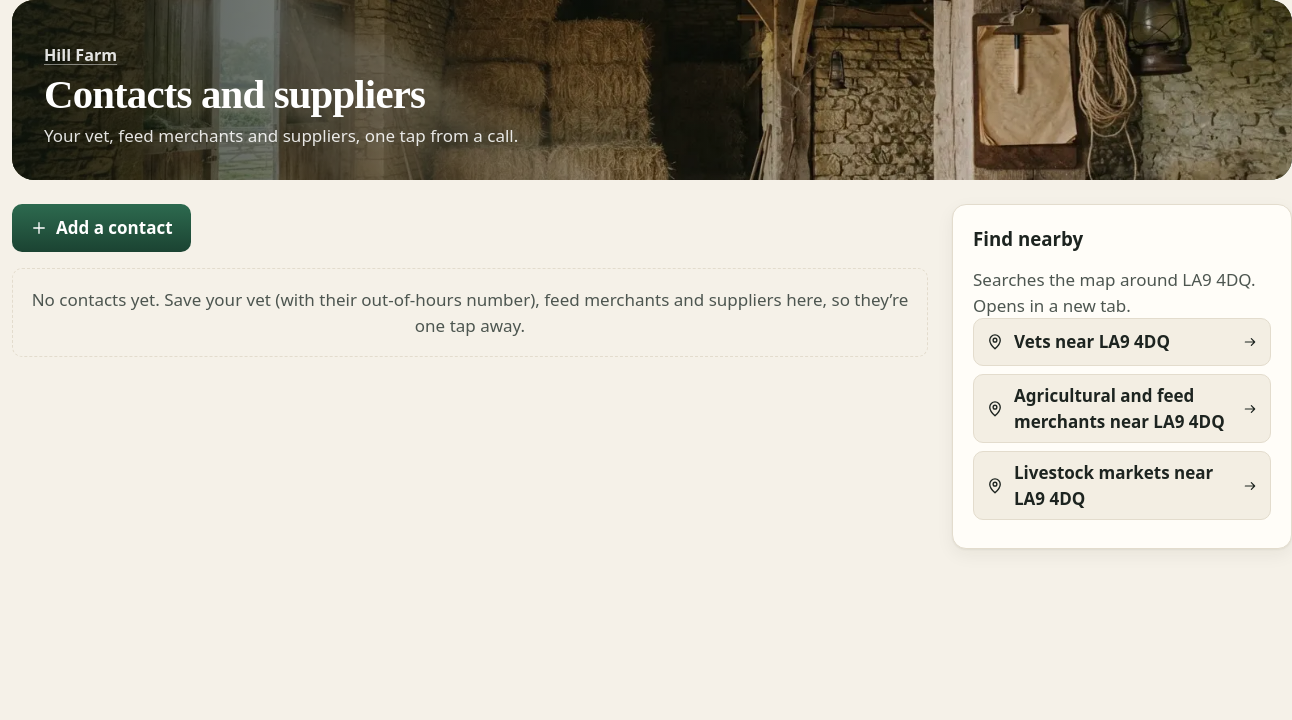
ContactsPage (v4) › adds a supplier with their website
The width and height of the screenshot is (1292, 720).
Click the button "Add a contact".
click(101, 228)  # box [12,204,191,252]
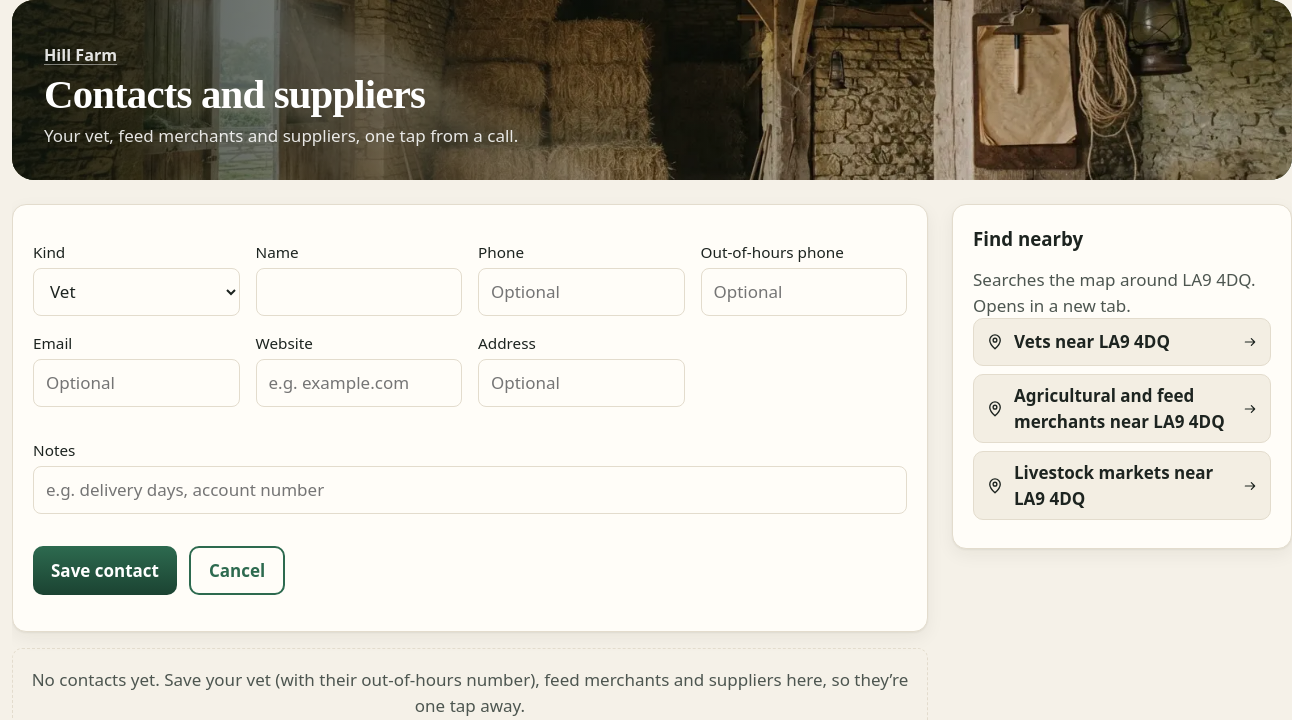
Select "Feed merchant" in the dropdown labelled "Kind" at (136, 292), box [33,268,240,316]
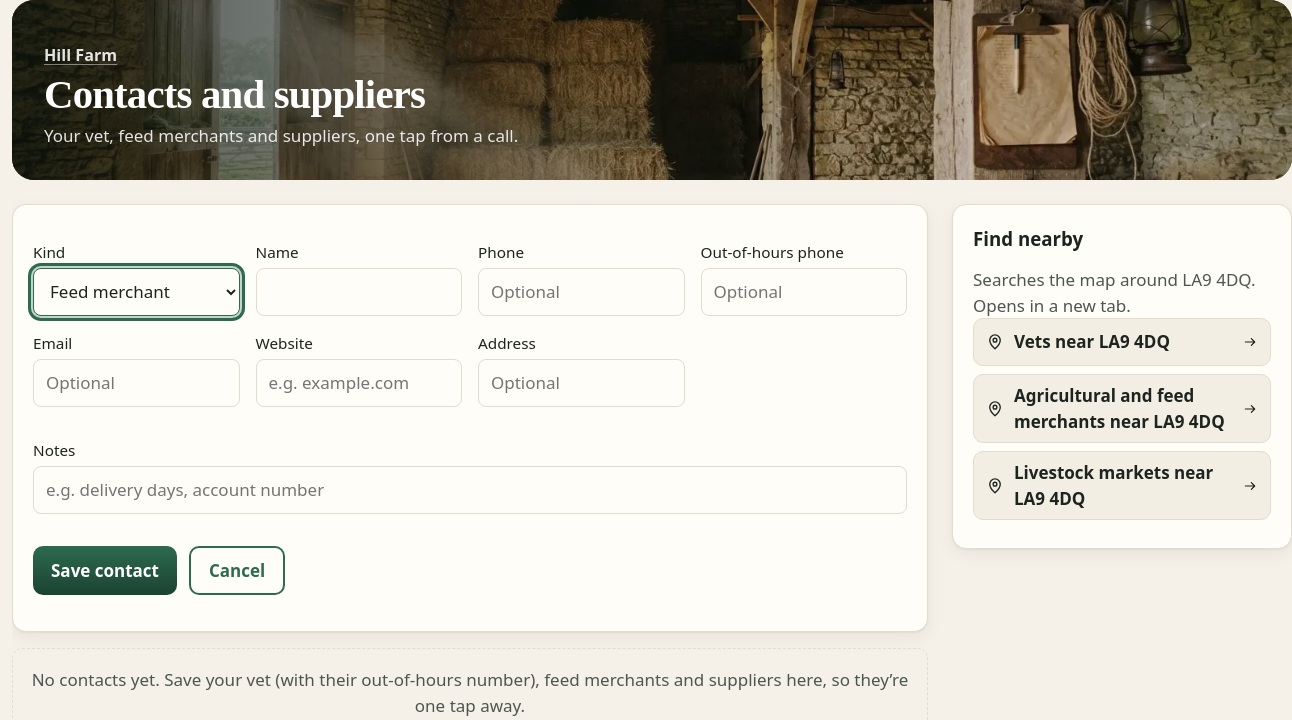
Type "Bale Feeds" into the field labelled "Name".
click(359, 292); type("Bale Feeds")  # box [256,268,462,316]
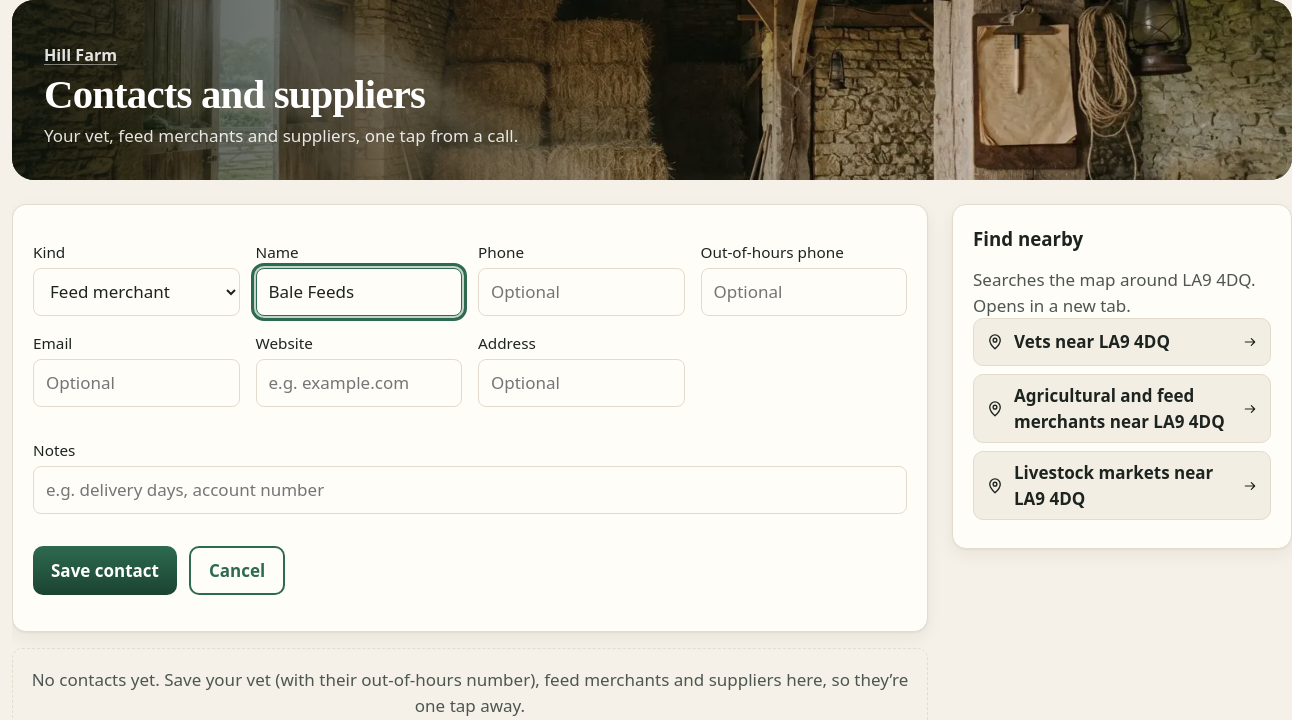
Type "01539 111111" into the field labelled "Phone".
click(581, 292); type("01539 111111")  # box [478,268,684,316]
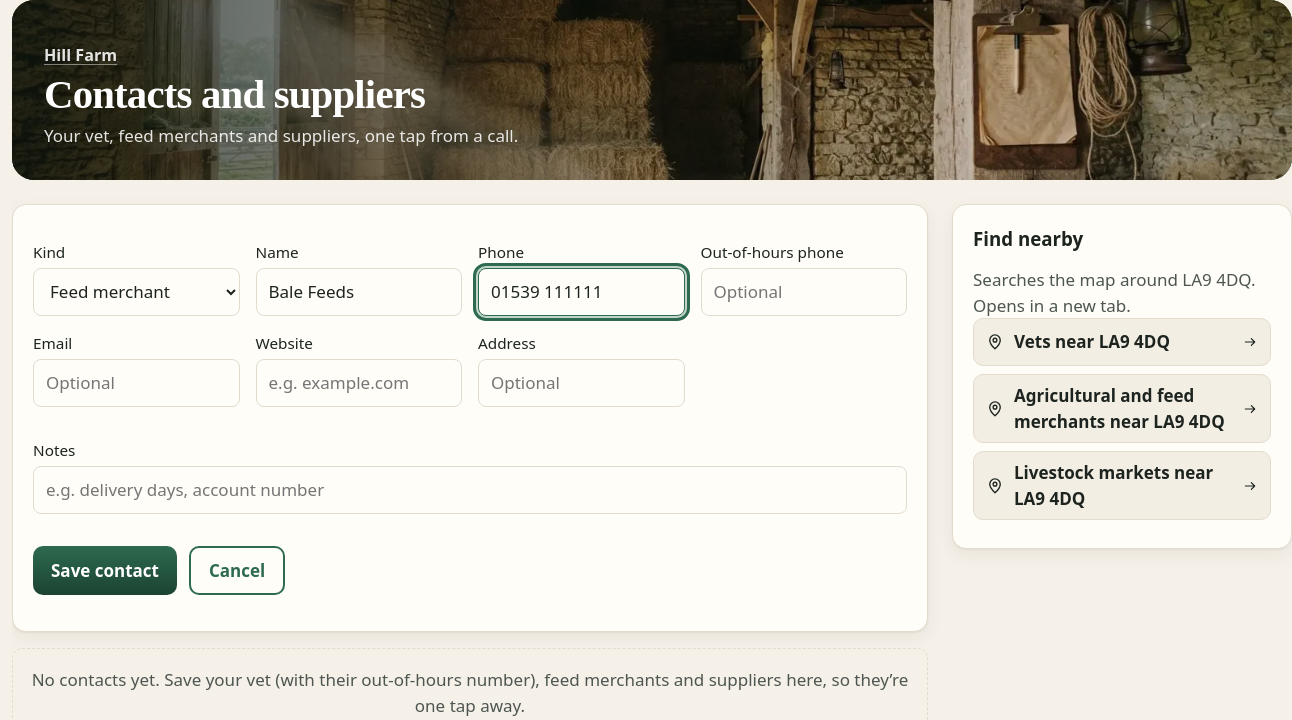
Type "bale.example.com" into the field labelled "Website".
click(359, 383); type("bale.example.com")  # box [256,359,462,407]
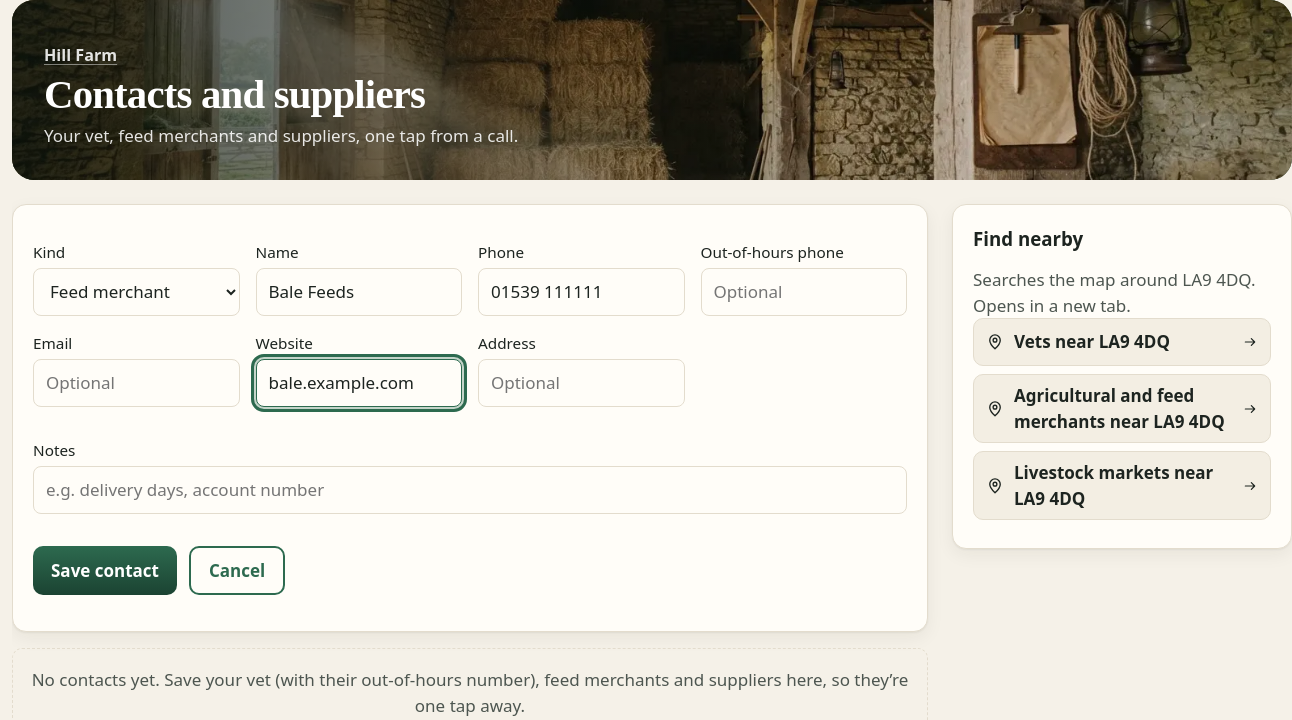
Click the button "Save contact".
click(105, 571)  # box [33,546,177,595]
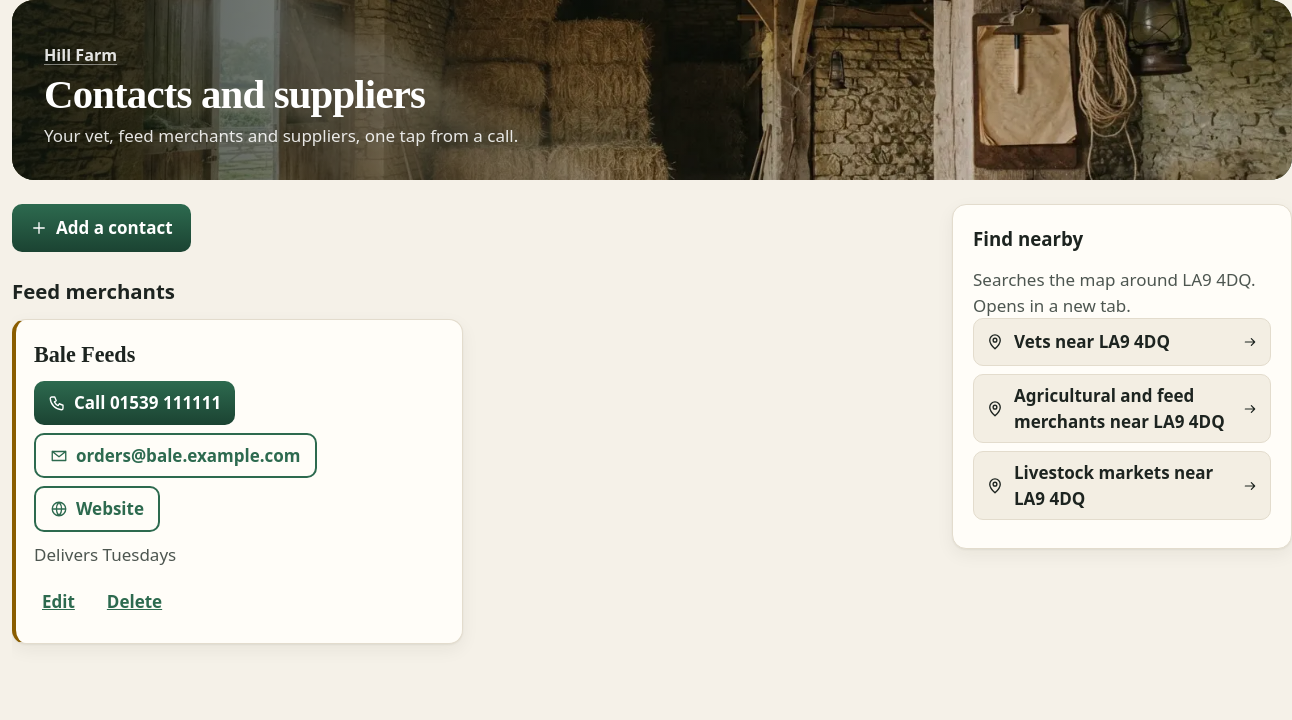
Expected: the element "Bale Feeds" is shown, [12,319,463,644]
